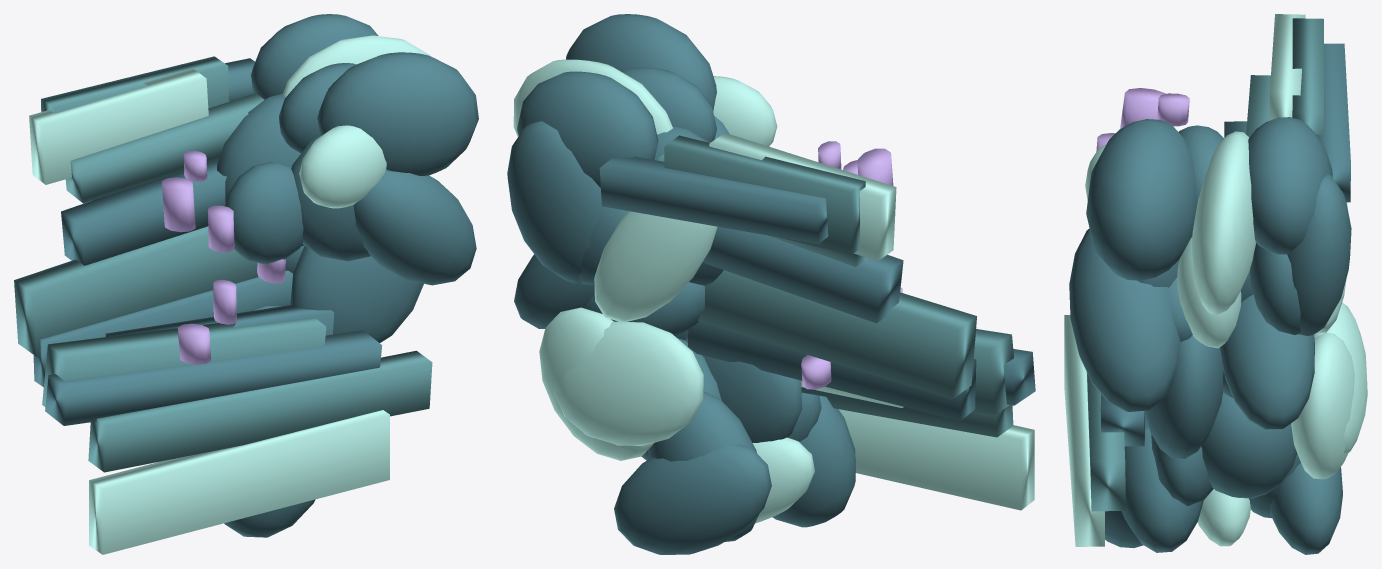
File: reef-shelf-right-01.glb
3 renders of one model, left to right at view 1: azimuth 30°, elevation 25°; view 2: azimuth 150°, elevation 25°; view 3: azimuth 270°, elevation 25°, orthographic. The views are drawn at different scales.
Visible parts, largest first — view 1: reef_shelf_right_01_stratified_shelf_00, reef_shelf_right_01_stratified_shelf_01, reef_shelf_right_01_stratified_shelf_07, reef_shelf_right_01_faceted_boulder_03, reef_shelf_right_01_stratified_shelf_02, reef_shelf_right_01_faceted_boulder_19, reef_shelf_right_01_stratified_shelf_10, reef_shelf_right_01_stratified_shelf_03, reef_shelf_right_01_stratified_shelf_09, reef_shelf_right_01_stratified_shelf_08, reef_shelf_right_01_faceted_boulder_17, reef_shelf_right_01_faceted_boulder_25 (+17 smaller); view 2: reef_shelf_right_01_stratified_shelf_07, reef_shelf_right_01_faceted_boulder_08, reef_shelf_right_01_faceted_boulder_13, reef_shelf_right_01_stratified_shelf_00, reef_shelf_right_01_stratified_shelf_12, reef_shelf_right_01_faceted_boulder_05, reef_shelf_right_01_stratified_shelf_08, reef_shelf_right_01_faceted_boulder_24, reef_shelf_right_01_faceted_boulder_02, reef_shelf_right_01_stratified_shelf_11, reef_shelf_right_01_stratified_shelf_06, reef_shelf_right_01_faceted_boulder_03 (+20 smaller); view 3: reef_shelf_right_01_faceted_boulder_03, reef_shelf_right_01_faceted_boulder_19, reef_shelf_right_01_faceted_boulder_04, reef_shelf_right_01_faceted_boulder_02, reef_shelf_right_01_faceted_boulder_18, reef_shelf_right_01_faceted_boulder_15, reef_shelf_right_01_faceted_boulder_05, reef_shelf_right_01_faceted_boulder_16, reef_shelf_right_01_faceted_boulder_17, reef_shelf_right_01_faceted_boulder_14, reef_shelf_right_01_stratified_shelf_00, reef_shelf_right_01_faceted_boulder_13 (+18 smaller).
Part boxes in pixels (x1,y1,x2,y2): reef_shelf_right_01_stratified_shelf_00: [89, 410, 389, 554]; reef_shelf_right_01_stratified_shelf_01: [88, 350, 432, 472]; reef_shelf_right_01_stratified_shelf_07: [14, 226, 258, 357]; reef_shelf_right_01_faceted_boulder_03: [317, 52, 478, 175]; reef_shelf_right_01_stratified_shelf_02: [45, 330, 382, 425]; reef_shelf_right_01_faceted_boulder_19: [353, 171, 476, 285]; reef_shelf_right_01_stratified_shelf_10: [29, 68, 208, 184]; reef_shelf_right_01_stratified_shelf_03: [42, 317, 326, 406]; reef_shelf_right_01_stratified_shelf_09: [65, 93, 264, 203]; reef_shelf_right_01_stratified_shelf_08: [61, 160, 226, 265]; reef_shelf_right_01_faceted_boulder_17: [290, 246, 423, 342]; reef_shelf_right_01_faceted_boulder_25: [225, 162, 303, 264]; reef_shelf_right_01_stratified_shelf_07: [697, 270, 976, 399]; reef_shelf_right_01_faceted_boulder_08: [554, 321, 703, 445]; reef_shelf_right_01_faceted_boulder_13: [614, 444, 771, 554]; reef_shelf_right_01_stratified_shelf_00: [838, 409, 1034, 510]; reef_shelf_right_01_stratified_shelf_12: [599, 156, 828, 244]; reef_shelf_right_01_faceted_boulder_05: [507, 121, 604, 282]; reef_shelf_right_01_stratified_shelf_08: [702, 226, 903, 323]; reef_shelf_right_01_faceted_boulder_24: [594, 211, 717, 321]; reef_shelf_right_01_faceted_boulder_02: [517, 71, 658, 187]; reef_shelf_right_01_stratified_shelf_11: [664, 135, 865, 255]; reef_shelf_right_01_stratified_shelf_06: [688, 321, 976, 420]; reef_shelf_right_01_faceted_boulder_03: [566, 14, 716, 111]; reef_shelf_right_01_faceted_boulder_03: [1086, 119, 1196, 280]; reef_shelf_right_01_faceted_boulder_19: [1069, 228, 1180, 412]; reef_shelf_right_01_faceted_boulder_04: [1192, 131, 1255, 314]; reef_shelf_right_01_faceted_boulder_02: [1248, 117, 1332, 254]; reef_shelf_right_01_faceted_boulder_18: [1220, 294, 1314, 429]; reef_shelf_right_01_faceted_boulder_15: [1201, 392, 1297, 498]; reef_shelf_right_01_faceted_boulder_05: [1287, 174, 1351, 335]; reef_shelf_right_01_faceted_boulder_16: [1291, 333, 1354, 479]; reef_shelf_right_01_faceted_boulder_17: [1145, 335, 1223, 458]; reef_shelf_right_01_faceted_boulder_14: [1122, 428, 1203, 552]; reef_shelf_right_01_stratified_shelf_00: [1064, 315, 1104, 546]; reef_shelf_right_01_faceted_boulder_13: [1270, 463, 1342, 554].
Bounding box in the file's own units: 6.44 × 6.21 × 3.49.
